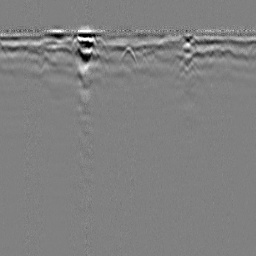cavity: (119, 44, 138, 67)
